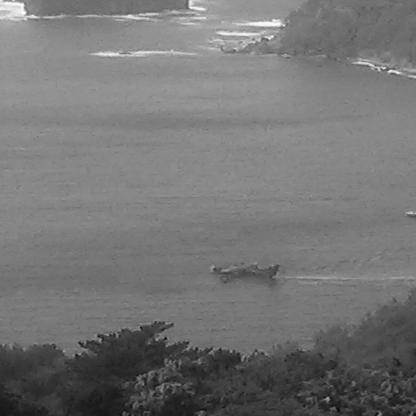US2: (209, 263, 282, 284)
